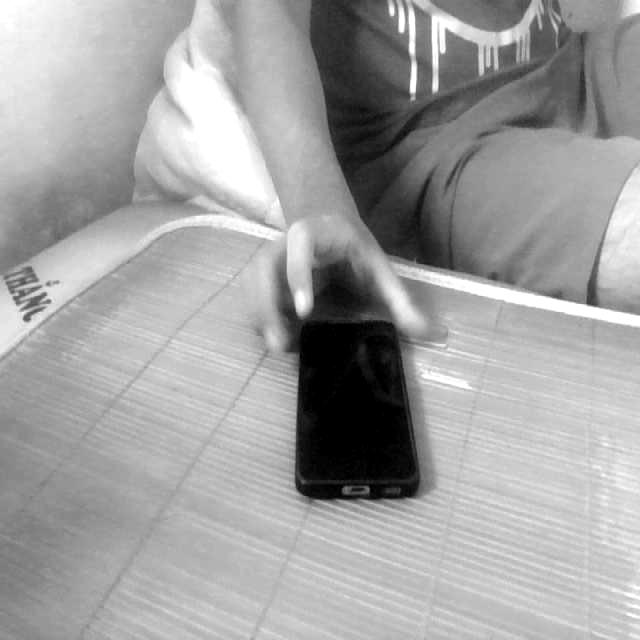phone: (278, 283, 436, 526)
